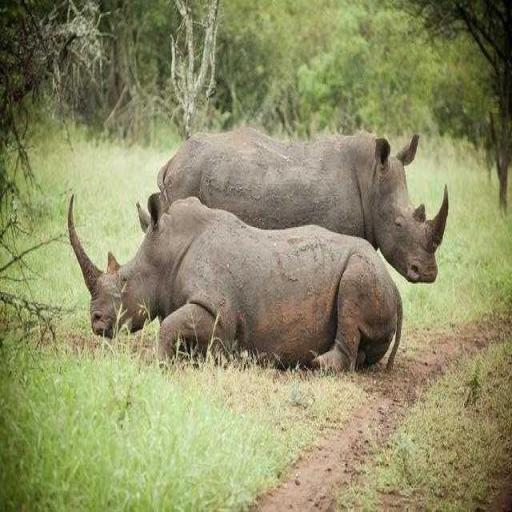Rhino: (66, 190, 404, 375), (155, 125, 449, 284)
